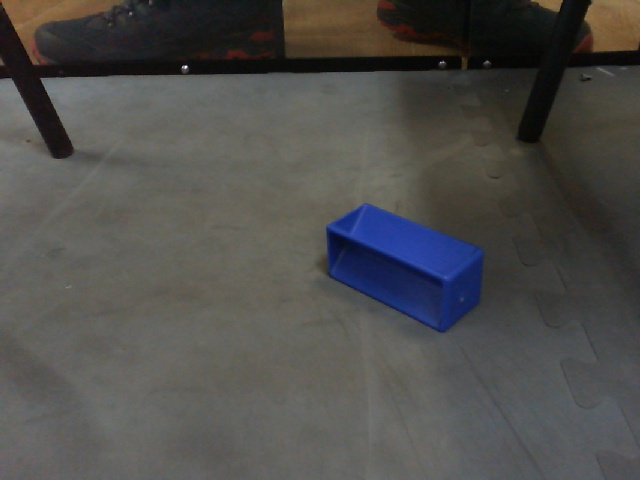BlueSample: (319, 199, 489, 341)
